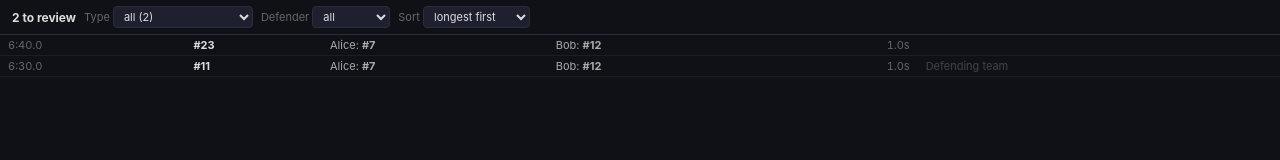
Test: DisagreementQueue › says so when a filter leaves nothing, rather than showing a blank table
Select "#23 Bell" in the dropdown labelled "Defender" at (351, 17), box [312, 6, 390, 28]
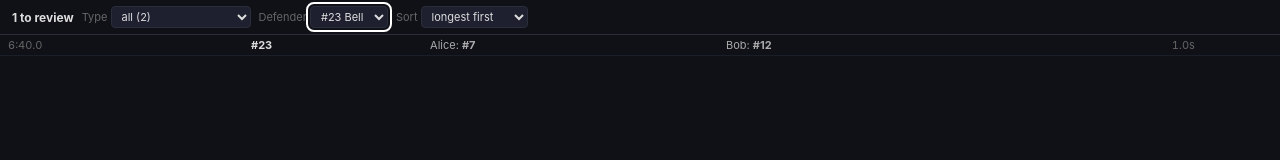
Select "Defending team (1)" in the dropdown labelled "Type" at (180, 17), box [110, 6, 250, 28]
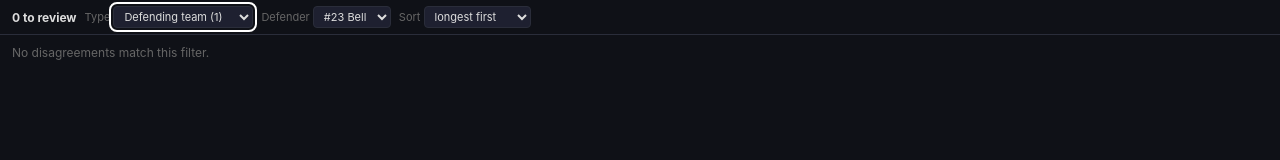
Result: the text "No disagreements match this filter." is shown at [12, 45, 209, 60]
